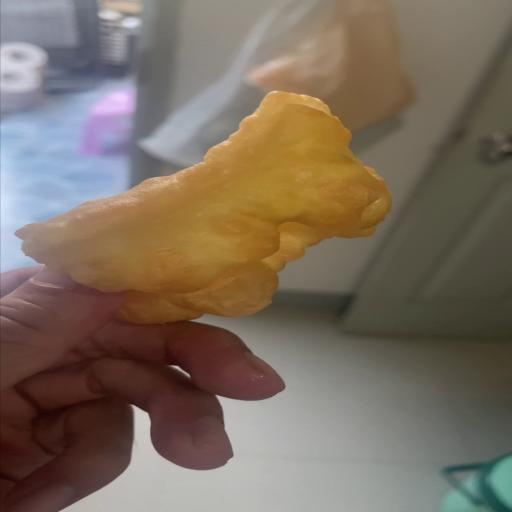street_golden_good: (16, 91, 390, 323)
